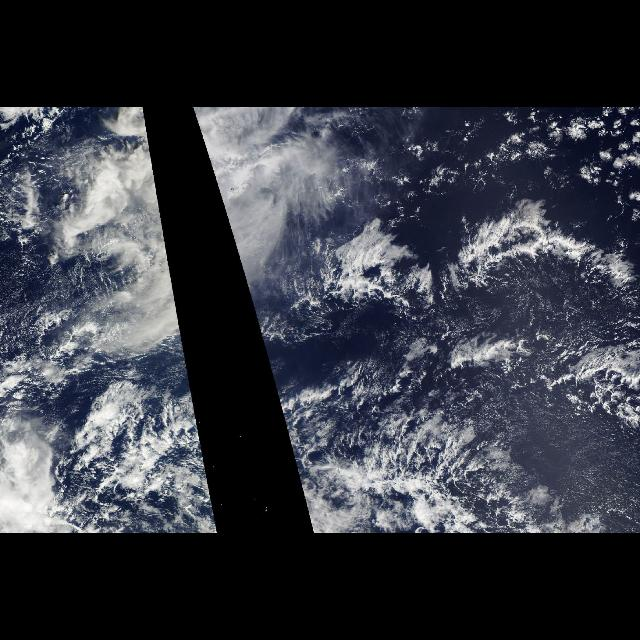Fish: (290, 198, 640, 348), (274, 380, 560, 524), (80, 380, 216, 524)
Gravel: (276, 388, 568, 534), (377, 110, 639, 214), (80, 388, 218, 534)
Sugar: (472, 272, 636, 514), (0, 226, 156, 364)
